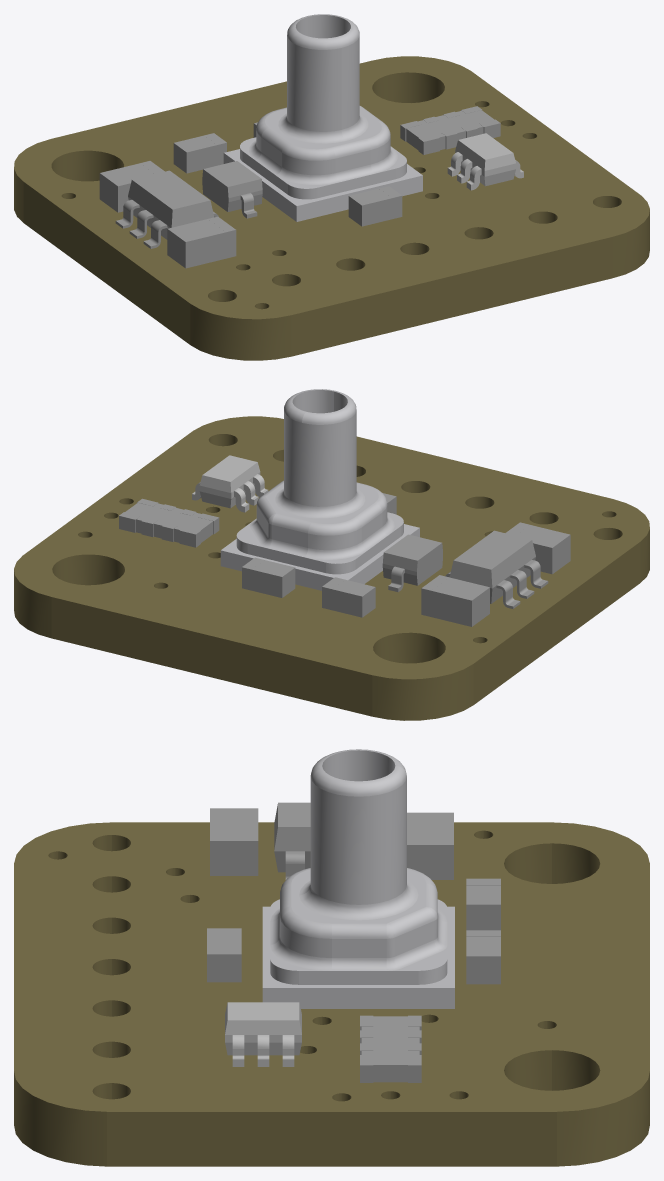
Rendered from ada-3965.glb.
3 renders of one model, top to bottom at view 1: azimuth 30°, elevation 25°; view 2: azimuth 150°, elevation 25°; view 3: azimuth 270°, elevation 25°, orthographic. The views are drawn at different scales.
Visible parts, largest first — view 1: 0.16666666666666666_0.16666666666666666_0.08333333333333333_, 0.5833333333333334_0.5833333333333334_0.5833333333333334_0.8, 0.3333333333333333_0.3333333333333333_0.3333333333333333_0, 0.5_0.5_0.5_0.85; view 2: 0.16666666666666666_0.16666666666666666_0.08333333333333333_, 0.5833333333333334_0.5833333333333334_0.5833333333333334_0.8, 0.3333333333333333_0.3333333333333333_0.3333333333333333_0, 0.5_0.5_0.5_0.85; view 3: 0.16666666666666666_0.16666666666666666_0.08333333333333333_, 0.5833333333333334_0.5833333333333334_0.5833333333333334_0.8, 0.3333333333333333_0.3333333333333333_0.3333333333333333_0, 0.5_0.5_0.5_0.85.
Boxes of the visible parts, x1=… form: 0.16666666666666666_0.16666666666666666_0.08333333333333333_: x1=14, y1=56, x2=649, y2=360; 0.5833333333333334_0.5833333333333334_0.5833333333333334_0.8: x1=223, y1=14, x2=422, y2=221; 0.3333333333333333_0.3333333333333333_0.3333333333333333_0: x1=99, y1=106, x2=500, y2=268; 0.5_0.5_0.5_0.85: x1=447, y1=133, x2=523, y2=190; 0.16666666666666666_0.16666666666666666_0.08333333333333333_: x1=14, y1=416, x2=649, y2=720; 0.5833333333333334_0.5833333333333334_0.5833333333333334_0.8: x1=220, y1=389, x2=419, y2=590; 0.3333333333333333_0.3333333333333333_0.3333333333333333_0: x1=119, y1=493, x2=570, y2=626; 0.5_0.5_0.5_0.85: x1=192, y1=455, x2=268, y2=512; 0.16666666666666666_0.16666666666666666_0.08333333333333333_: x1=14, y1=822, x2=649, y2=1166; 0.5833333333333334_0.5833333333333334_0.5833333333333334_0.8: x1=262, y1=749, x2=454, y2=1008; 0.3333333333333333_0.3333333333333333_0.3333333333333333_0: x1=207, y1=802, x2=500, y2=1082; 0.5_0.5_0.5_0.85: x1=225, y1=1002, x2=301, y2=1066.
Size of the model in its own units: 1.78 by 0.737 by 1.65.
